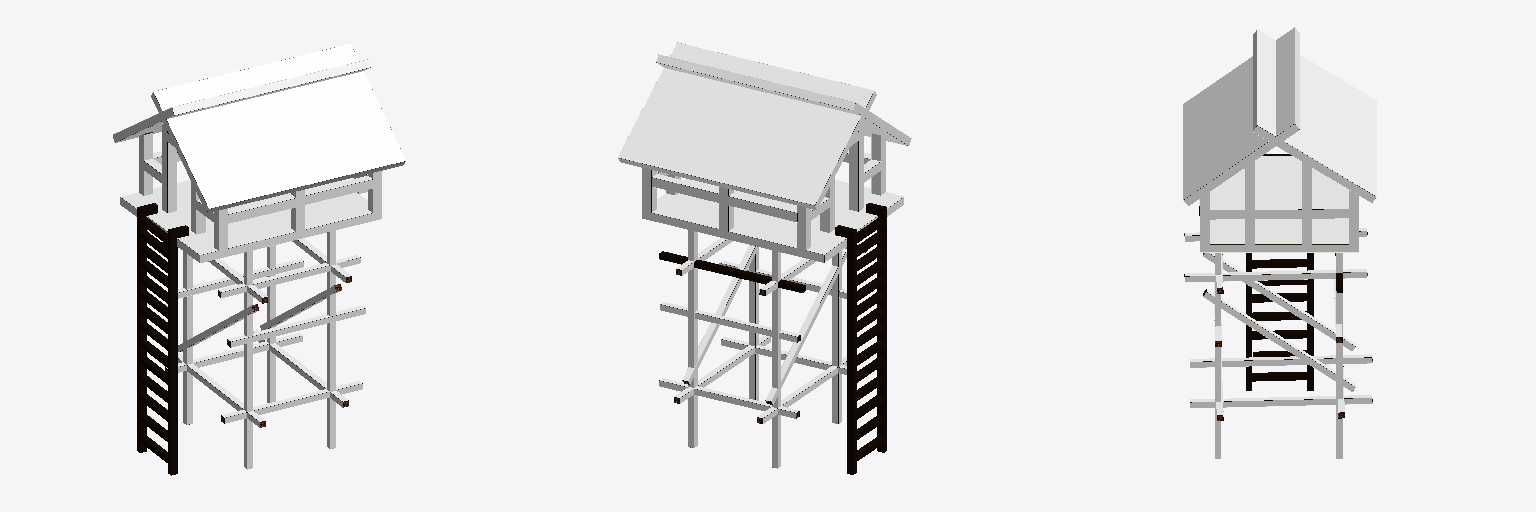
The picture shows the model from 3 angles: view 1: azimuth 30°, elevation 25°; view 2: azimuth 150°, elevation 25°; view 3: azimuth 270°, elevation 25°; orthographic projection.
Parts seen in each view (by area): view 1: Part168, Part245, Part20, Part196, Part6, Part246, Part158, Part116, Part109, Part119, Part167, Part147 (+13 smaller); view 2: Part197, Part245, Part6, Part170, Part20, Part248, Part229, Part106, Part254, Part172, Part113, Part198 (+11 smaller); view 3: Part197, Part168, Part245, Part252, Part247, Part199, Part171, Part209, Part216, Part188, Part153, Part160 (+5 smaller).
Part boxes in pixels (left/top/right/bottom): Part168: left=154, top=44, right=405, bottom=208; Part245: left=121, top=180, right=371, bottom=254; Part20: left=168, top=228, right=177, bottom=475; Part196: left=172, top=59, right=371, bottom=114; Part6: left=137, top=206, right=146, bottom=452; Part246: left=200, top=211, right=381, bottom=262; Part158: left=330, top=230, right=335, bottom=448; Part116: left=247, top=251, right=252, bottom=469; Part109: left=187, top=254, right=192, bottom=424; Part119: left=231, top=308, right=365, bottom=347; Part167: left=207, top=161, right=405, bottom=212; Part147: left=221, top=258, right=360, bottom=297; Part197: left=618, top=43, right=873, bottom=204; Part245: left=652, top=179, right=903, bottom=254; Part6: left=847, top=228, right=856, bottom=474; Part170: left=656, top=55, right=855, bottom=109; Part20: left=877, top=206, right=886, bottom=452; Part248: left=642, top=211, right=823, bottom=262; Part229: left=659, top=251, right=805, bottom=292; Part106: left=772, top=250, right=777, bottom=468; Part254: left=688, top=230, right=693, bottom=447; Part172: left=658, top=63, right=906, bottom=145; Part113: left=832, top=253, right=837, bottom=423; Part198: left=618, top=158, right=816, bottom=209; Part197: left=1257, top=29, right=1376, bottom=196; Part168: left=1183, top=27, right=1294, bottom=199; Part245: left=1210, top=156, right=1348, bottom=243; Part252: left=1336, top=253, right=1342, bottom=458; Part247: left=1200, top=245, right=1358, bottom=251; Part199: left=1253, top=126, right=1375, bottom=202; Part171: left=1184, top=124, right=1298, bottom=205; Part209: left=1185, top=272, right=1366, bottom=281; Part216: left=1203, top=292, right=1355, bottom=391; Part188: left=1190, top=398, right=1372, bottom=407; Part153: left=1215, top=253, right=1220, bottom=458; Part160: left=1190, top=358, right=1372, bottom=367.
Size of the model in its own units: 28.15 by 47.97 by 23.07.
8 materials, 1 textured.